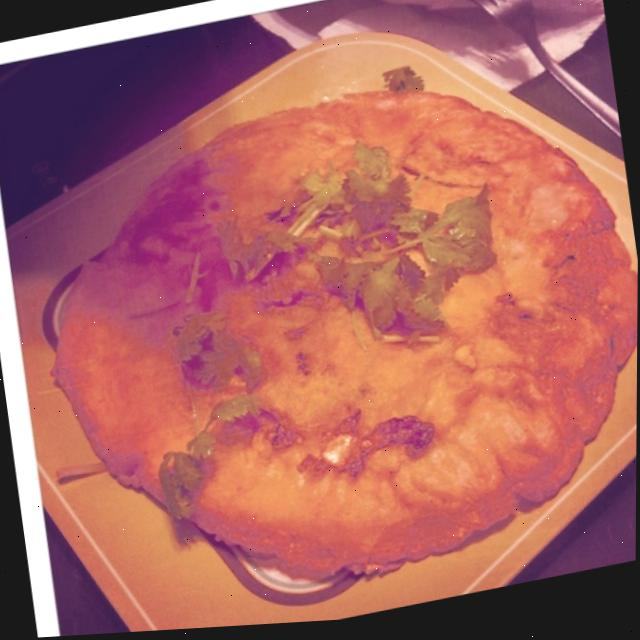炸货点心: (7, 0, 640, 639)
蛋糕甜品: (7, 0, 640, 639)
